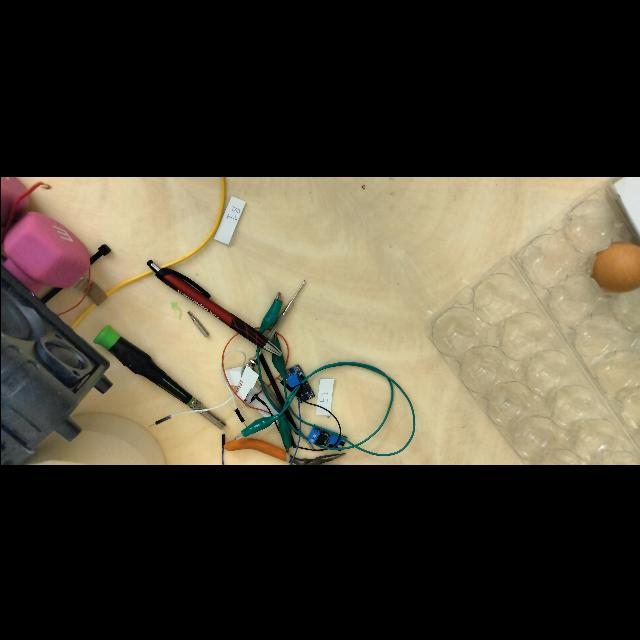Egg: (586, 238, 640, 298)
